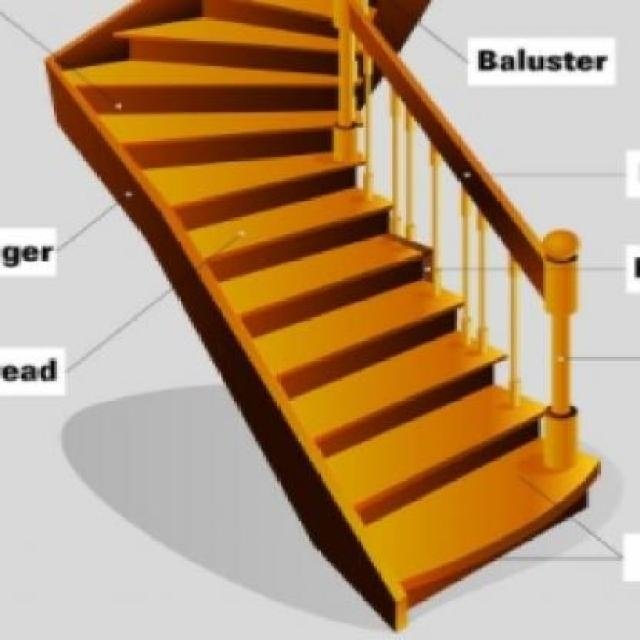stair: (0, 1, 640, 640)
